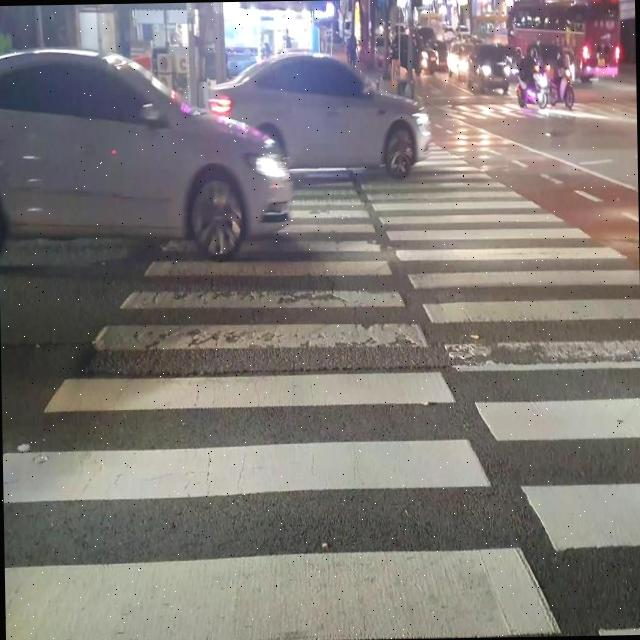crosswalk: (4, 138, 640, 640), (433, 100, 635, 120)
